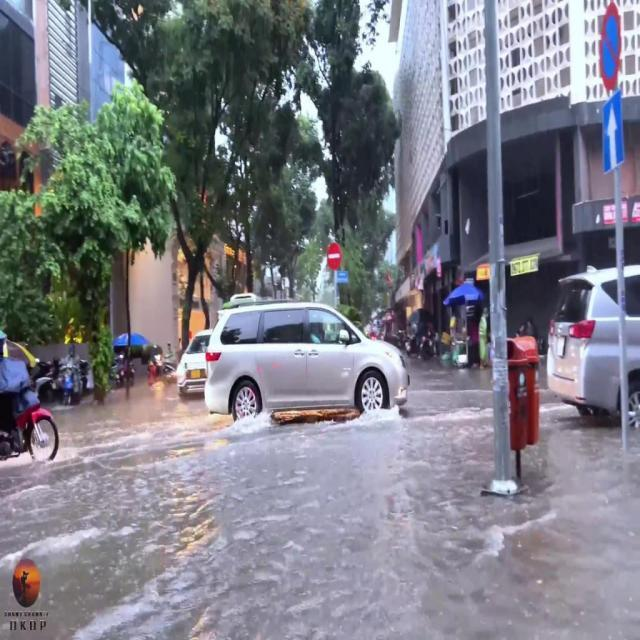102-cam-di-nguoc-chieu: (328, 244, 340, 272)
131a-cam-do-xe: (597, 5, 621, 91)
407a-duong-mot-chieu: (602, 90, 624, 174)
